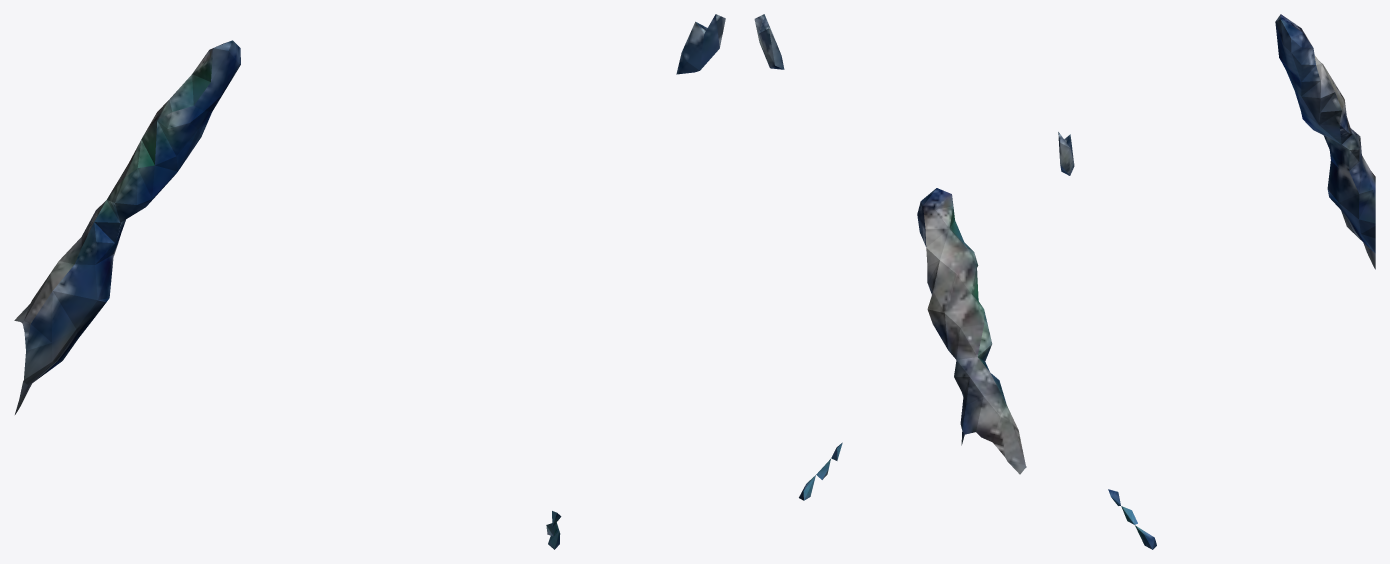
3 renders of one model, left to right at view 1: azimuth 30°, elevation 25°; view 2: azimuth 150°, elevation 25°; view 3: azimuth 270°, elevation 25°, orthographic. The views are drawn at different scales.
Bounding box in the file's own units: 0.5677 × 0.5664 × 0.3546.
1 material, 1 textured.
